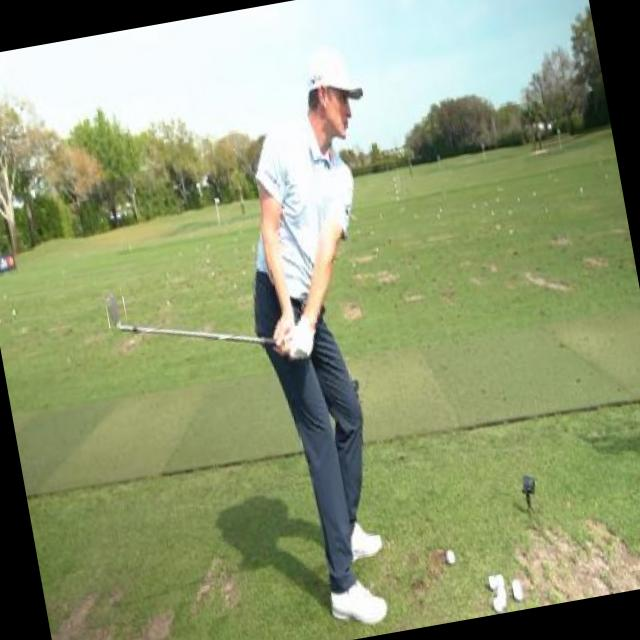club head: (104, 287, 130, 335)
